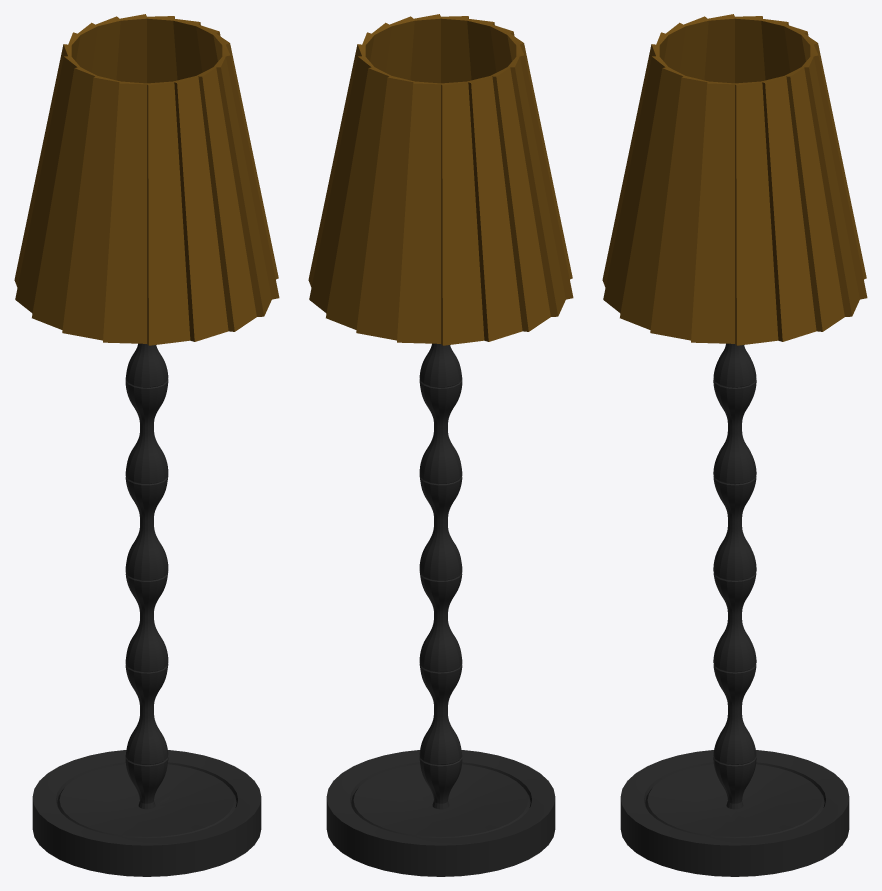
Rendered from IKEA-Ekarp_Table_Lamp-3D.obj.
3 renders of one model, left to right at view 1: azimuth 30°, elevation 25°; view 2: azimuth 150°, elevation 25°; view 3: azimuth 270°, elevation 25°, orthographic.
Parts seen in each view (by area): view 1: Layer_0; view 2: Layer_0; view 3: Layer_0.
Boxes of the visible parts, left/top/right/bottom form: Layer_0: left=14, top=14, right=279, bottom=876; Layer_0: left=308, top=14, right=573, bottom=876; Layer_0: left=602, top=14, right=867, bottom=876.
Bounding box in the file's own units: 152 × 487 × 150.
